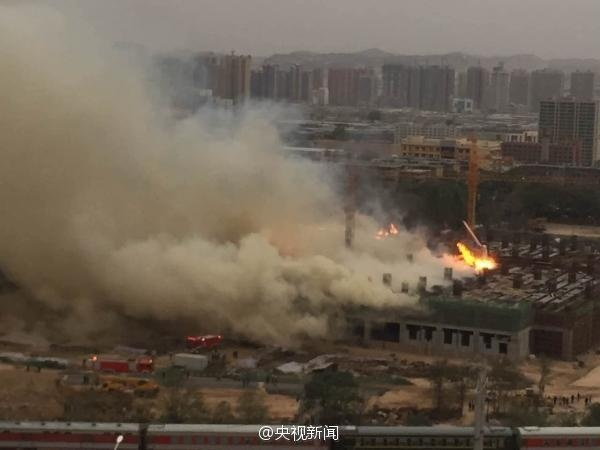fire: (453, 242, 498, 270), (375, 222, 398, 237)
